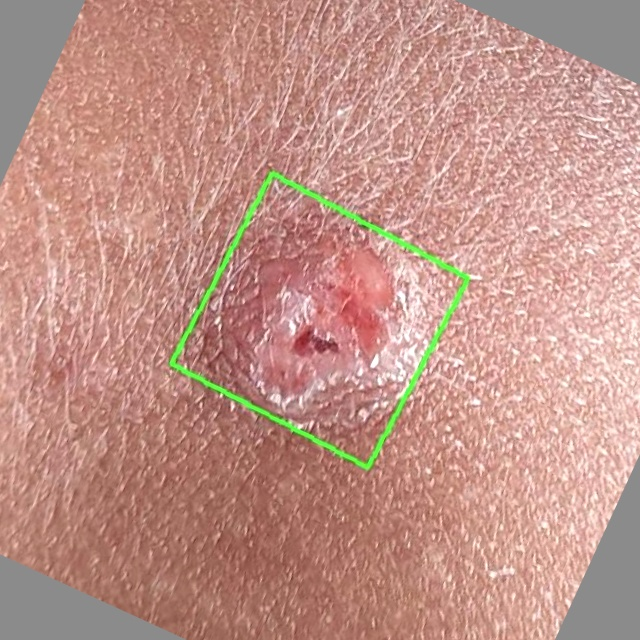Contact Dermatitis: (171, 173, 469, 468)
